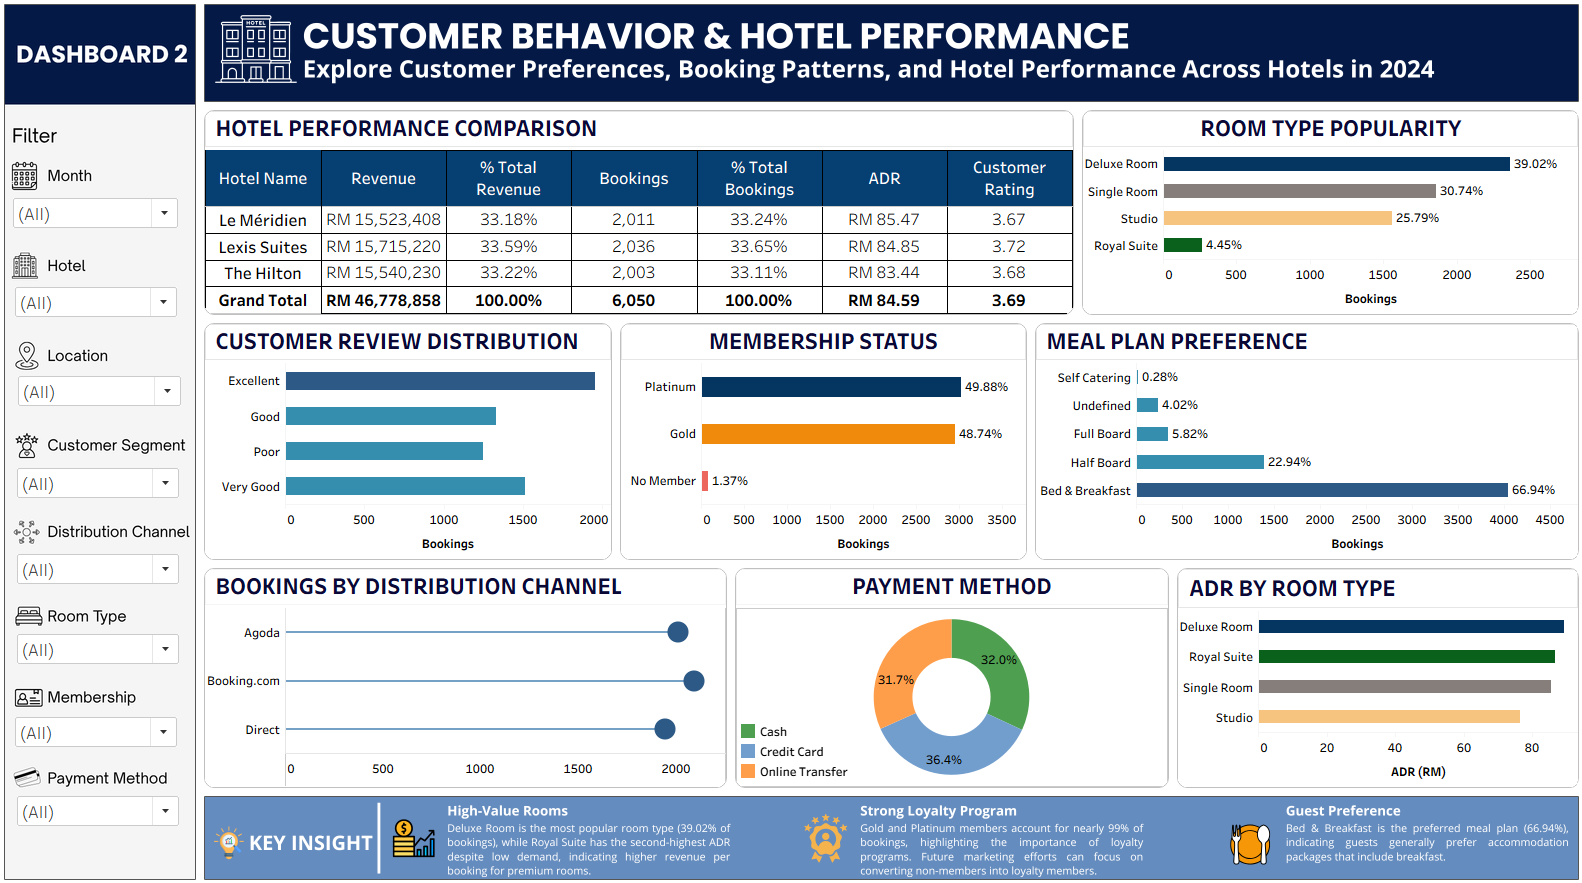

Layout of this report page (visuals, bound fields, positions):
{"tool":"tableau","page":{"name":"Dashboard 2","canvas":[1600,900],"ordinal":1},"visuals":[{"type":"image","param":"Image/DASHBOARD 1 (5).png","box":[8,8,199.9,884]},{"type":"image","param":"Image/TITLE DASHBOARD.png","box":[207.9,8,1384.1,106]},{"type":"worksheet","title":"HOTEL PERFORMANCE","mark":"Automatic","rows":["hotel_name"],"box":[207.9,114,878,213]},{"type":"worksheet","title":"ROOM TYPE POPULARITY","mark":"Automatic","rows":["room-type"],"cols":["sales"],"box":[1085.9,114,506.1,213]},{"type":"filter","title":"CUSTOMER REVIEW DISTRIBUTION","param":"[federated.0sorz6w19j6c7v100yrxr1x67bvo].[mn:arrival_date:ok]","box":[18,205,171,32]},{"type":"filter","title":"CUSTOMER REVIEW DISTRIBUTION","param":"[federated.0sorz6w19j6c7v100yrxr1x67bvo].[none:hotel_name:nk]","box":[20,295,168,31]},{"type":"worksheet","title":"CUSTOMER REVIEW DISTRIBUTION","mark":"Automatic","rows":["customer_review"],"cols":["sales"],"box":[207.9,327,416,245]},{"type":"worksheet","title":"MEMBERSHIP STATUS","mark":"Automatic","rows":["membership"],"cols":["sales"],"box":[623.9,327,415,245]},{"type":"worksheet","title":"MEAL PLAN","mark":"Automatic","rows":["meal"],"cols":["sales"],"box":[1038.9,327,553.1,245]},{"type":"filter","title":"CUSTOMER REVIEW DISTRIBUTION","param":"[federated.0sorz6w19j6c7v100yrxr1x67bvo].[none:state:nk]","box":[23,384,169,30]},{"type":"filter","title":"CUSTOMER REVIEW DISTRIBUTION","param":"[federated.0sorz6w19j6c7v100yrxr1x67bvo].[none:cus_seg:nk]","box":[22,475,168,33]},{"type":"filter","title":"CUSTOMER REVIEW DISTRIBUTION","param":"[federated.0sorz6w19j6c7v100yrxr1x67bvo].[none:dis_channel:nk]","box":[22,561,168,33]},{"type":"worksheet","title":"BOOKINGS BY DISTRIBUTION CHANNEL","mark":"Automatic","rows":["dis_channel"],"cols":["sales","sales"],"box":[207.9,572,531,228]},{"type":"worksheet","title":"PAYMENT METHOD","mark":"Pie","rows":["Calculation_1001404044656653","Calculation_1001404044673039"],"box":[738.9,572,442,228]},{"type":"worksheet","title":"ADR BY ROOM TYPE","mark":"Automatic","rows":["room-type"],"cols":["ADR"],"box":[1180.9,572,411.1,228]},{"type":"filter","title":"CUSTOMER REVIEW DISTRIBUTION","param":"[federated.0sorz6w19j6c7v100yrxr1x67bvo].[none:room-type:nk]","box":[22,642,168,31]},{"type":"filter","title":"CUSTOMER REVIEW DISTRIBUTION","param":"[federated.0sorz6w19j6c7v100yrxr1x67bvo].[none:membership:nk]","box":[20,724,168,32]},{"type":"legend","title":"PAYMENT METHOD","param":"[federated.0sorz6w19j6c7v100yrxr1x67bvo].[none:payment_method:nk]","box":[746,729,114,64]},{"type":"image","param":"Image/KEY INSIGHT (2).png","box":[207.9,800,1384.1,92]},{"type":"filter","title":"CUSTOMER REVIEW DISTRIBUTION","param":"[federated.0sorz6w19j6c7v100yrxr1x67bvo].[none:payment_method:nk]","box":[22,804,168,30]}]}

Visuals, with their boxes in screenshot pixels (x1, y1, x2, y2), scaled from the page's 1600x900 canvas onto the 1582x883 screenshot:
image: (left=8, top=8, right=206, bottom=875)
image: (left=206, top=8, right=1574, bottom=112)
"HOTEL PERFORMANCE" worksheet: (left=206, top=112, right=1074, bottom=321)
"ROOM TYPE POPULARITY" worksheet: (left=1074, top=112, right=1574, bottom=321)
"CUSTOMER REVIEW DISTRIBUTION" filter: (left=18, top=201, right=187, bottom=233)
"CUSTOMER REVIEW DISTRIBUTION" filter: (left=20, top=289, right=186, bottom=320)
"CUSTOMER REVIEW DISTRIBUTION" worksheet: (left=206, top=321, right=617, bottom=561)
"MEMBERSHIP STATUS" worksheet: (left=617, top=321, right=1027, bottom=561)
"MEAL PLAN" worksheet: (left=1027, top=321, right=1574, bottom=561)
"CUSTOMER REVIEW DISTRIBUTION" filter: (left=23, top=377, right=190, bottom=406)
"CUSTOMER REVIEW DISTRIBUTION" filter: (left=22, top=466, right=188, bottom=498)
"CUSTOMER REVIEW DISTRIBUTION" filter: (left=22, top=550, right=188, bottom=583)
"BOOKINGS BY DISTRIBUTION CHANNEL" worksheet: (left=206, top=561, right=731, bottom=785)
"PAYMENT METHOD" worksheet (Pie marks): (left=731, top=561, right=1168, bottom=785)
"ADR BY ROOM TYPE" worksheet: (left=1168, top=561, right=1574, bottom=785)
"CUSTOMER REVIEW DISTRIBUTION" filter: (left=22, top=630, right=188, bottom=660)
"CUSTOMER REVIEW DISTRIBUTION" filter: (left=20, top=710, right=186, bottom=742)
"PAYMENT METHOD" legend: (left=738, top=715, right=850, bottom=778)
image: (left=206, top=785, right=1574, bottom=875)
"CUSTOMER REVIEW DISTRIBUTION" filter: (left=22, top=789, right=188, bottom=818)
